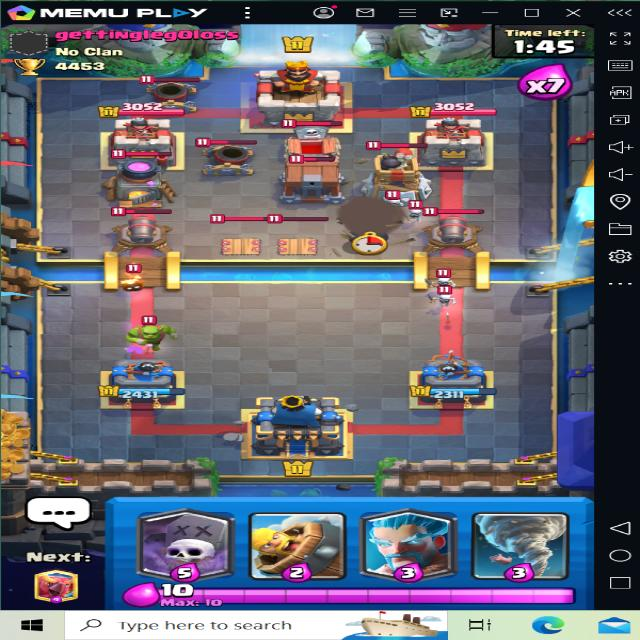bomb-tower: (354, 137, 434, 204), (335, 187, 412, 255)
brawler: (122, 311, 172, 348)
cannon: (419, 203, 488, 253), (114, 206, 176, 250)
fire-spirit: (117, 270, 147, 292)
furnace: (107, 149, 182, 207)
goblin-cage: (280, 150, 350, 198)
mortar: (140, 65, 207, 111), (194, 138, 257, 168)
skeleton: (399, 203, 429, 226), (378, 193, 411, 209), (430, 273, 456, 293), (431, 289, 452, 308)
tesla-closed: (264, 212, 330, 256), (210, 210, 270, 256)
tombstone: (278, 116, 352, 159)
